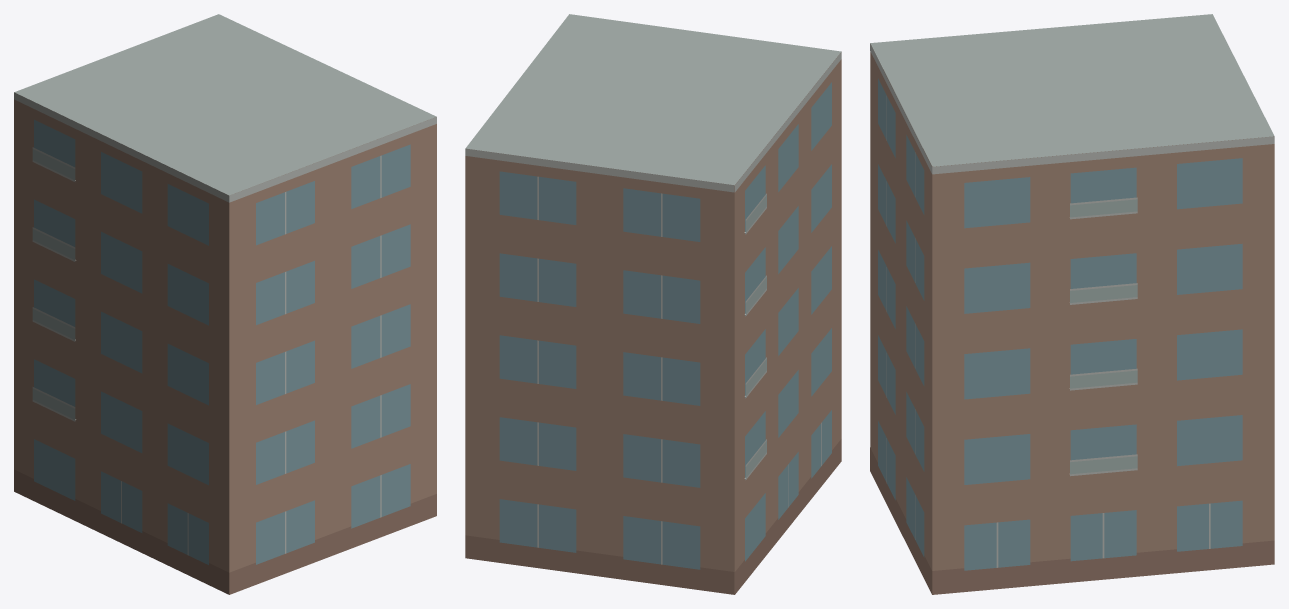
The model's file is survey-upis-32599339.glb.
3 views of the same model, side by side, from view 1: azimuth 30°, elevation 25°; view 2: azimuth 150°, elevation 25°; view 3: azimuth 270°, elevation 25° (orthographic). The views are drawn at different scales.
Visible parts, largest first — view 1: survey-upis-32599339.tmp; view 2: survey-upis-32599339.tmp; view 3: survey-upis-32599339.tmp.
Boxes of the visible parts, left/top/right/bottom form: survey-upis-32599339.tmp: left=14, top=14, right=436, bottom=594; survey-upis-32599339.tmp: left=465, top=14, right=841, bottom=594; survey-upis-32599339.tmp: left=870, top=14, right=1274, bottom=594.
Bounding box in the file's own units: 10.5 × 13.7 × 11.74.
